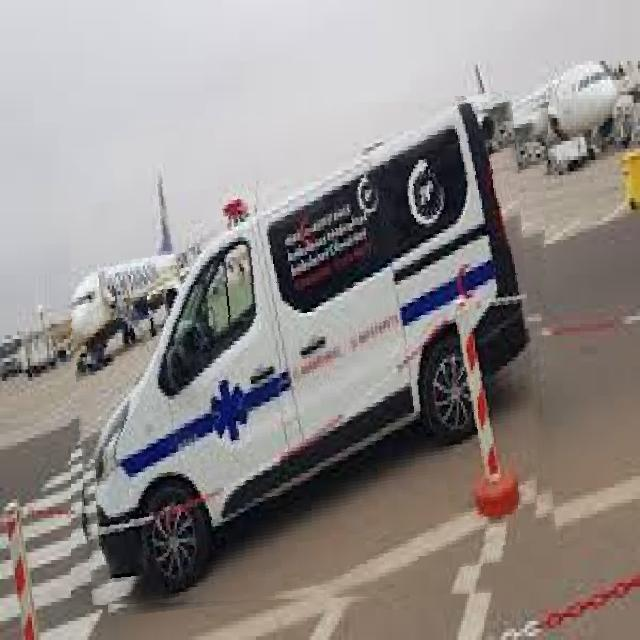ambulance: (71, 102, 549, 606)
